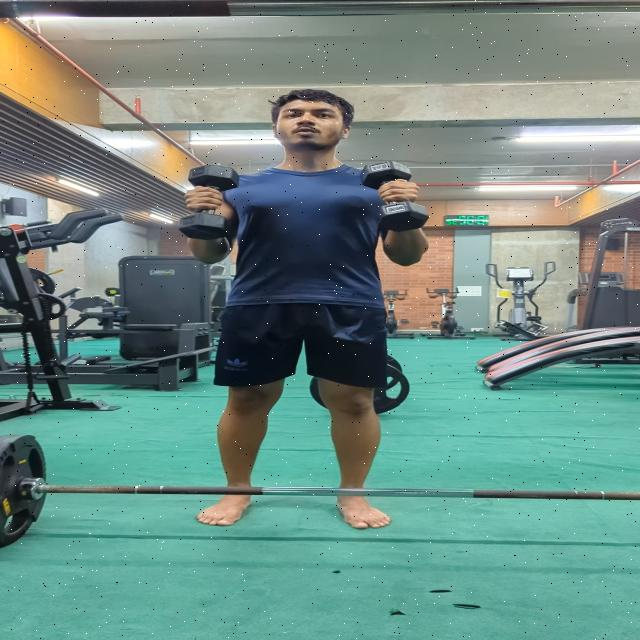Normal_DumbbellBicepCurls: (139, 86, 442, 532)
